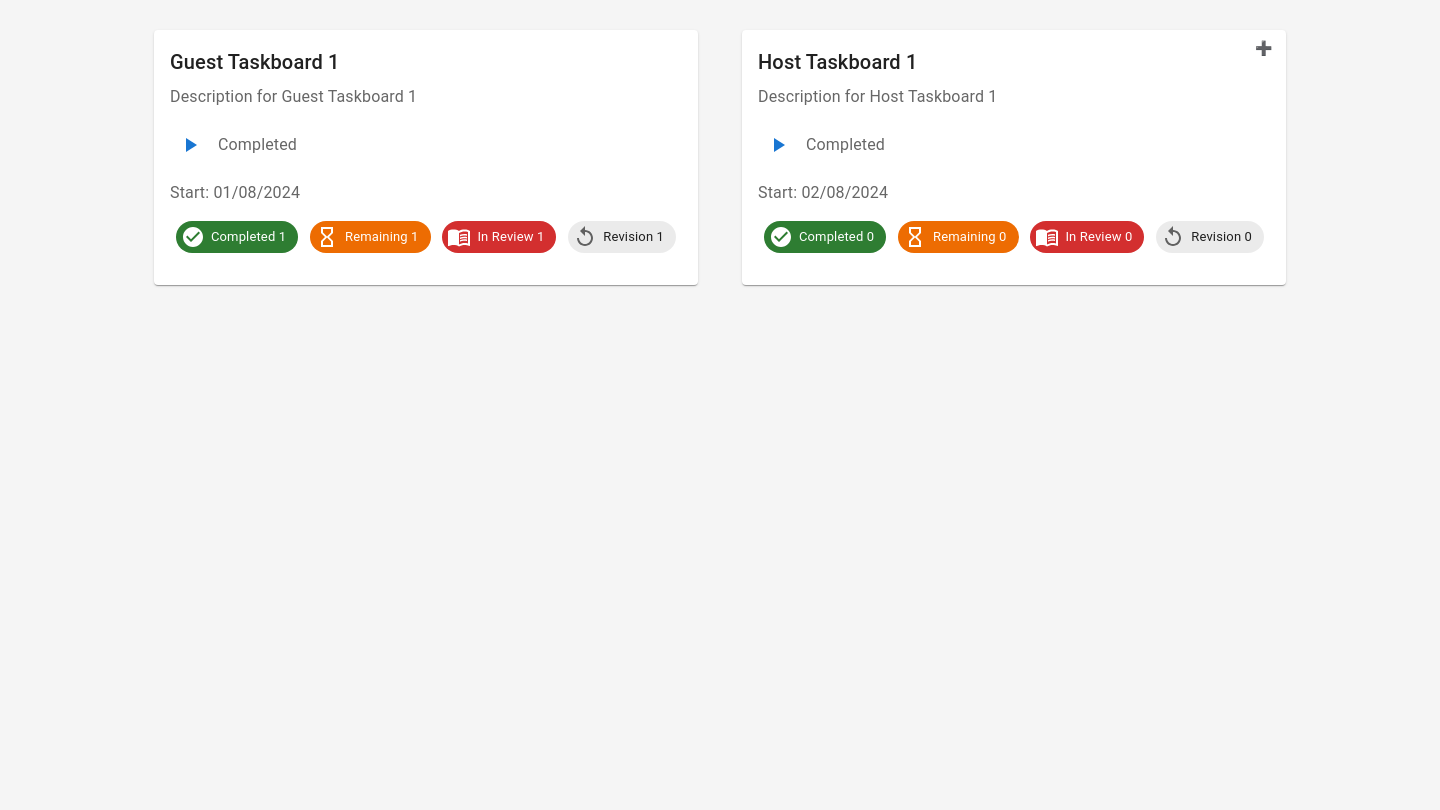
opens and closes the UserPopup when the button is clicked
Check: the heading "Host Taskboard 1" is shown, box [758, 50, 918, 74]
Click the button "➕".
click(1264, 48)  # box [1232, 30, 1296, 66]
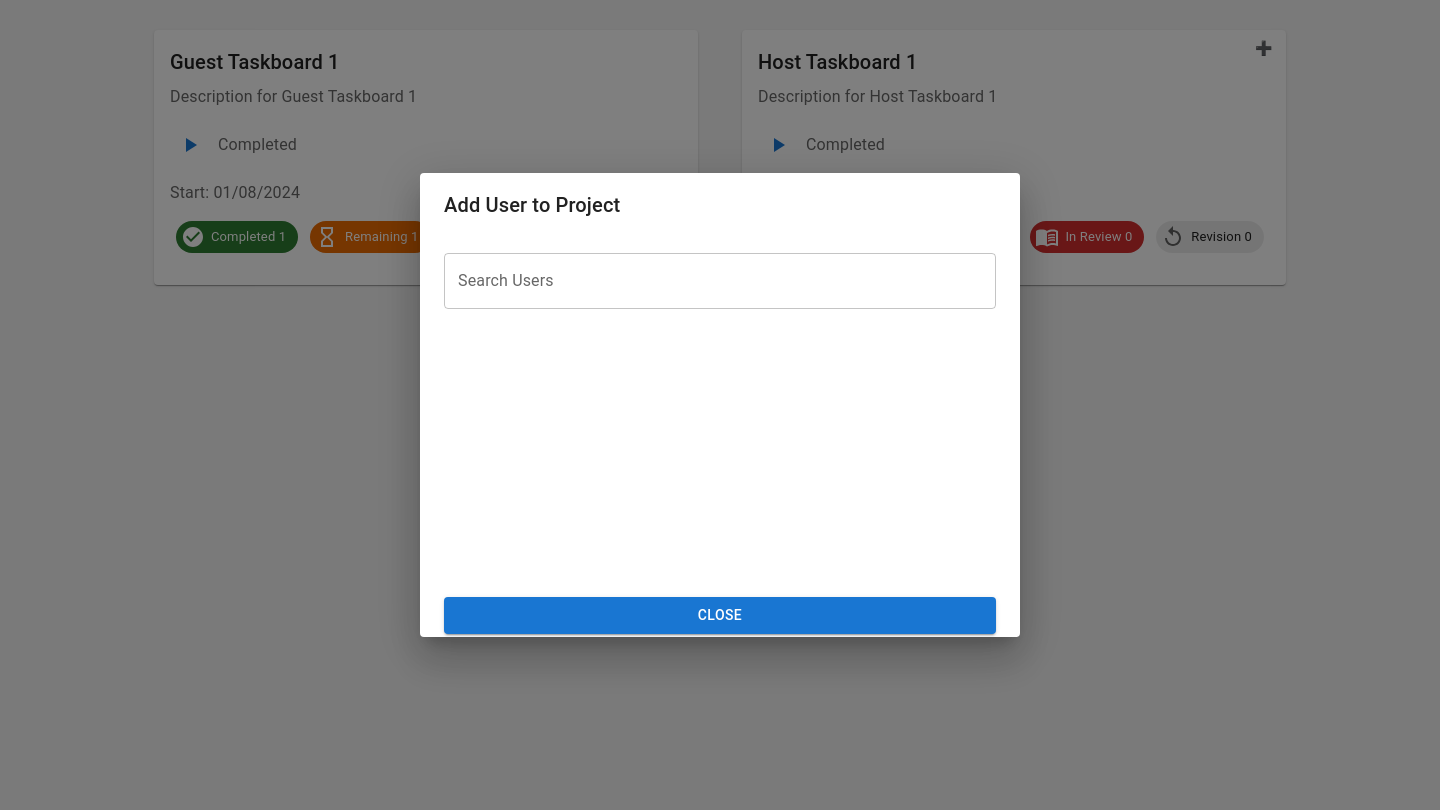
Check: the heading "Add User to Project" is shown, box [444, 193, 620, 217]
